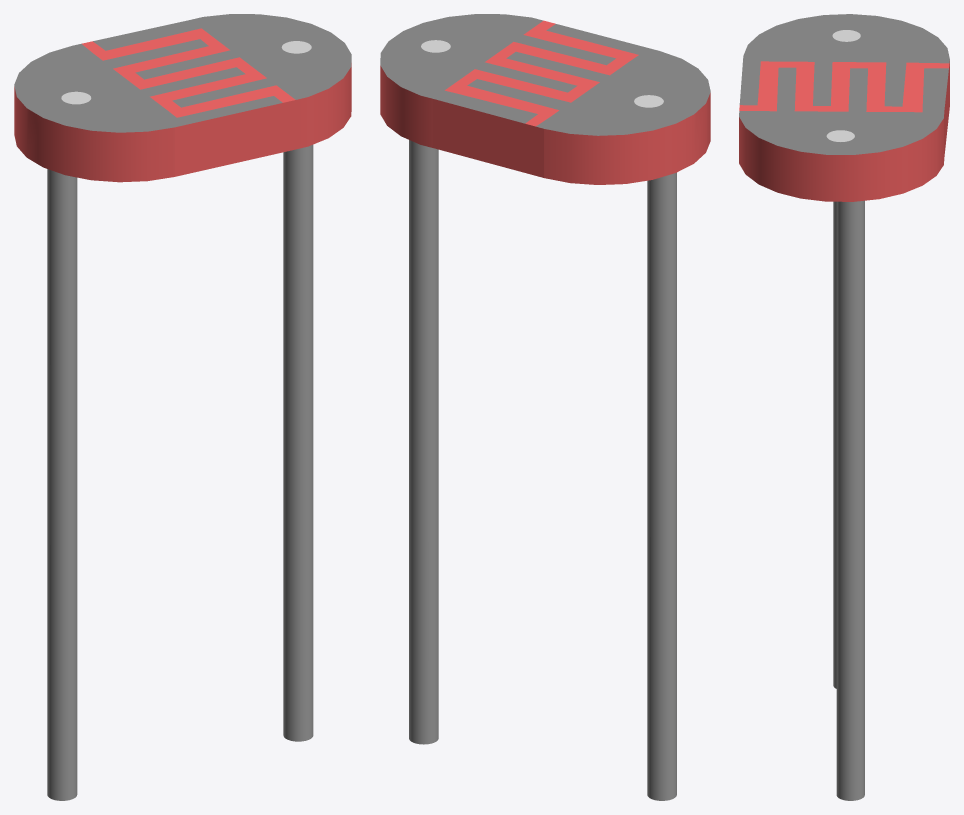
Rendered from ldr.obj.
3 views of the same model, side by side, from view 1: azimuth 30°, elevation 25°; view 2: azimuth 150°, elevation 25°; view 3: azimuth 270°, elevation 25° (orthographic). The views are drawn at different scales.
Visible parts, largest first — view 1: Mesh1 Model; view 2: Mesh1 Model; view 3: Mesh1 Model.
Boxes of the visible parts, x1,y1,x2,y2 form: Mesh1 Model: (14, 14, 351, 800); Mesh1 Model: (380, 14, 710, 800); Mesh1 Model: (739, 14, 949, 800).
Size of the model in its own units: 988 by 2141 by 624.
